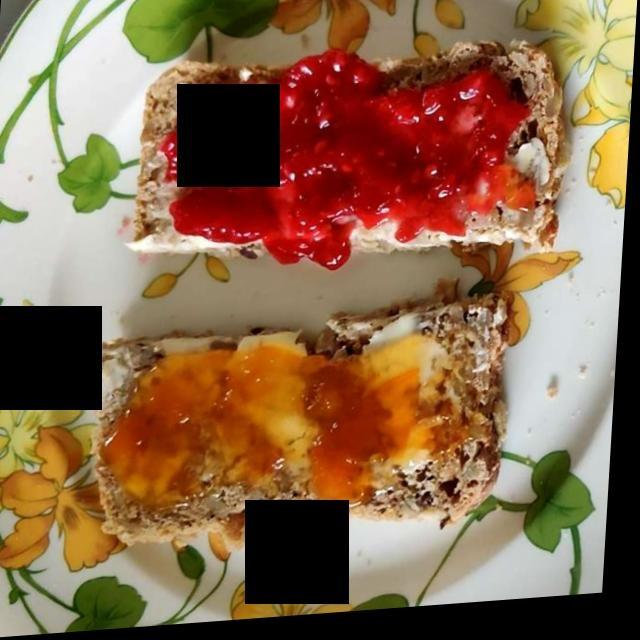bread: (105, 56, 557, 533)
butter: (211, 323, 439, 453)
jam: (116, 61, 524, 511)
